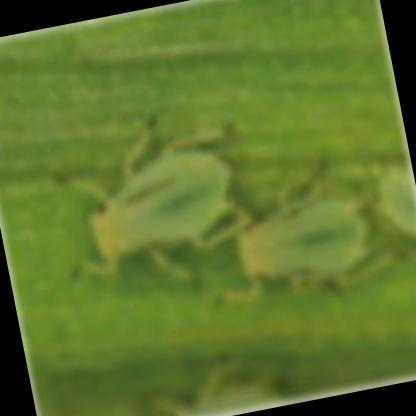schizaphis graminum: (74, 121, 235, 278), (235, 177, 368, 294)
